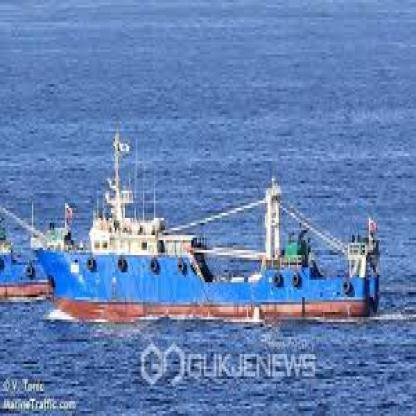fish-b: (26, 121, 390, 337)
